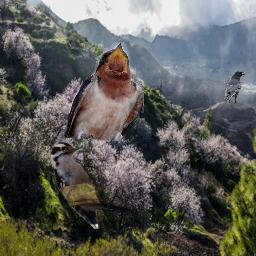Crow: (223, 71, 247, 105)
Swallow: (65, 42, 144, 147)
Woodpecker: (50, 142, 131, 229)
